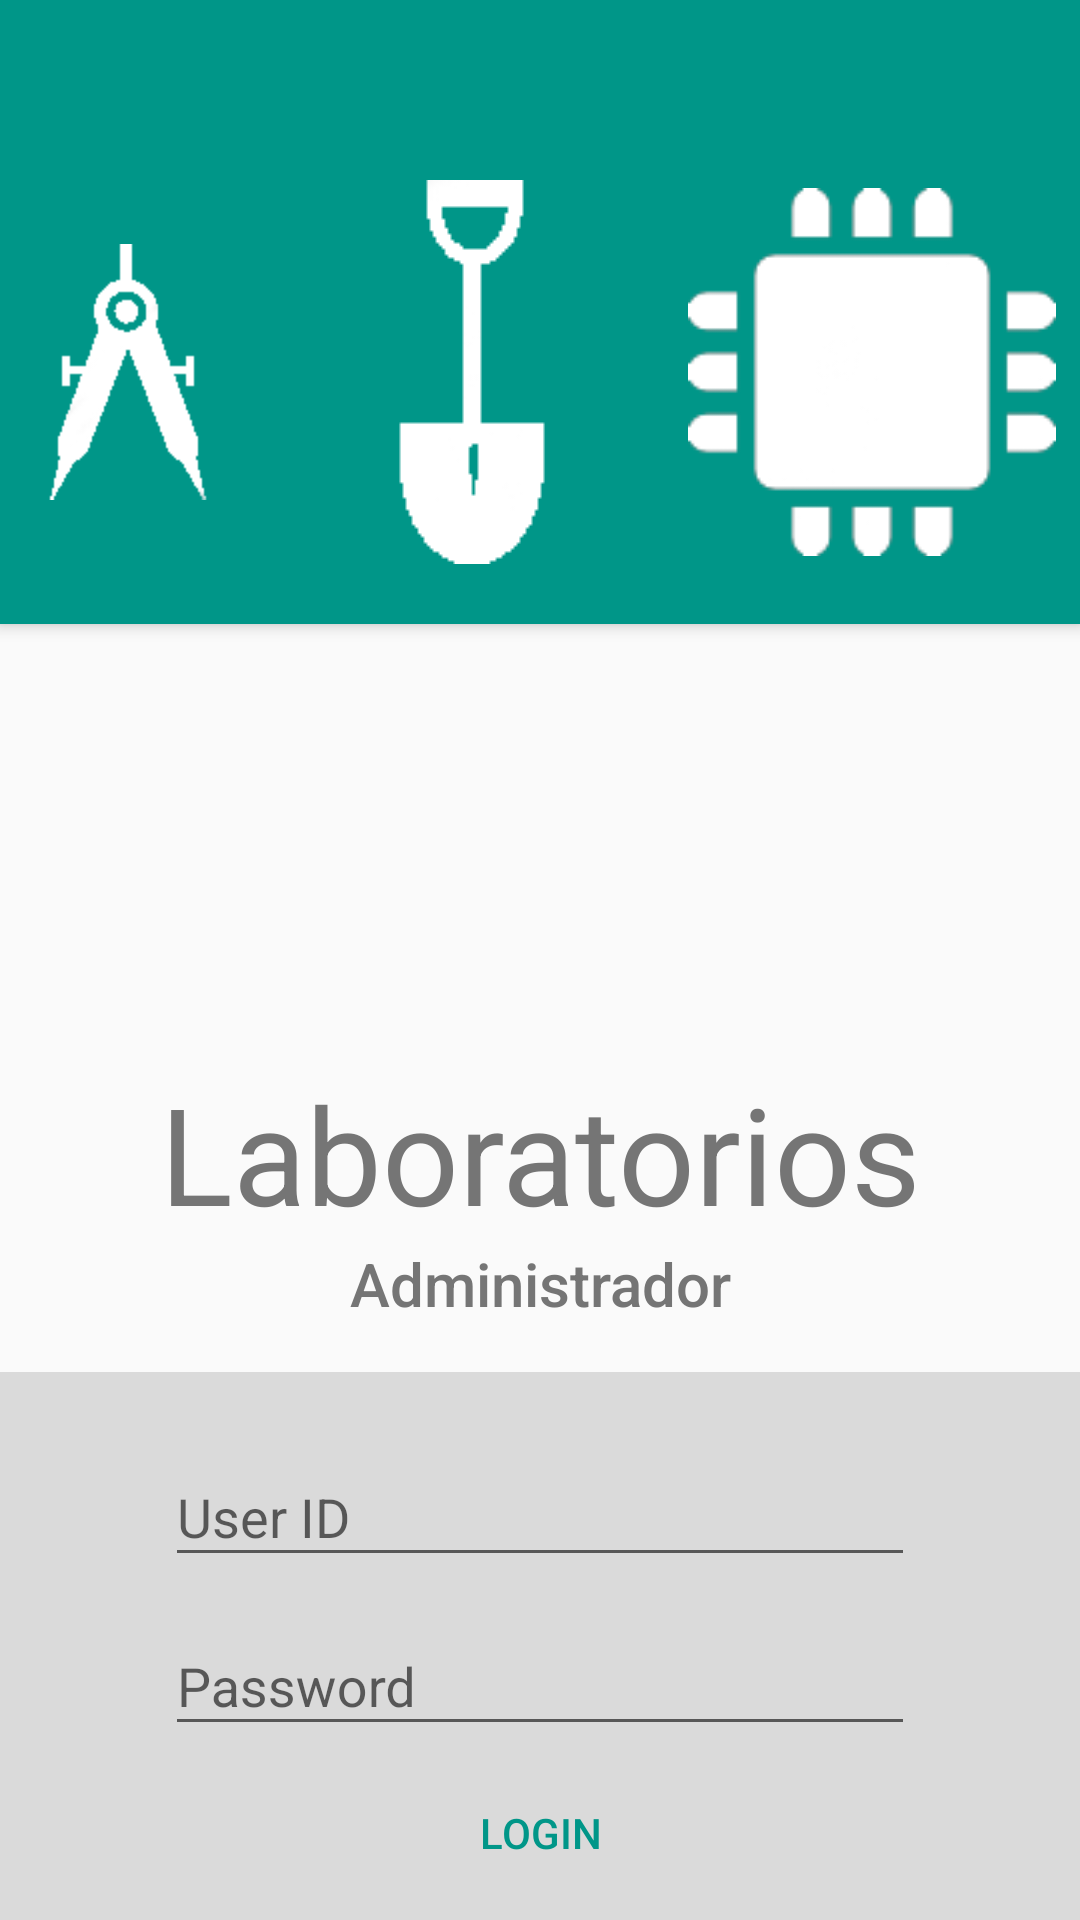

Where to tap for icons on this 1080×1920 app screen, as point (x, y):
architecture: point (128, 372)
